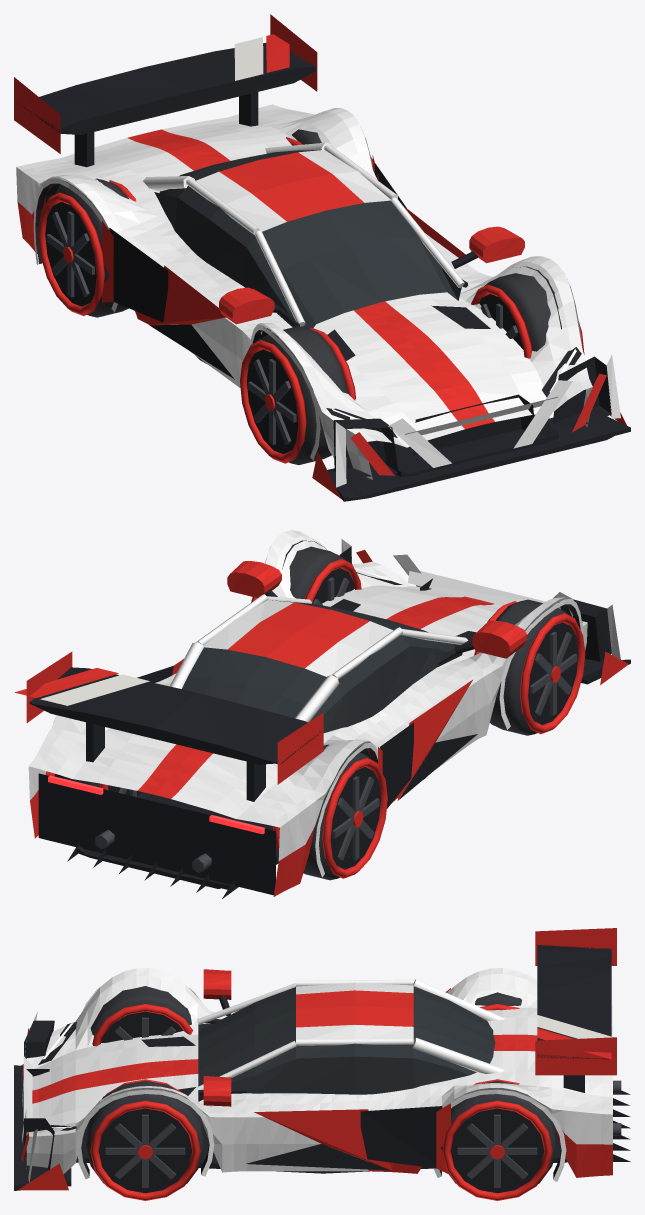
Rendered from wedge.glb.
The picture shows the model from 3 angles, top to bottom: view 1: azimuth 30°, elevation 25°; view 2: azimuth 150°, elevation 25°; view 3: azimuth 270°, elevation 25°; orthographic projection. The views are drawn at different scales.
Parts seen in each view (by area): view 1: white:2, black:2, red:2, glass:2, red:0 (×3), rubber:0 (×3), black:0 (×3), white:0, metal:0 (×2), whiteAccent:2; view 2: white:2, black:2, red:2, glass:2, black:0 (×4), red:0 (×3), rubber:0 (×3), metal:0 (×3), white:0, whiteAccent:2, tail:0; view 3: white:2, red:2, glass:2, black:2, black:0 (×4), red:0 (×3), rubber:0 (×4), white:0, metal:0 (×2), whiteAccent:2.
Part boxes in pixels (<box>): white:2: <box>16,104,620,487</box>; black:2: <box>17,43,630,501</box>; red:2: <box>14,14,626,499</box>; glass:2: <box>154,150,461,328</box>; red:0 (×3): <box>38,180,584,463</box>; rubber:0 (×3): <box>55,178,550,464</box>; black:0 (×3): <box>45,92,477,453</box>; white:0: <box>143,142,464,326</box>; metal:0 (×2): <box>46,211,296,444</box>; whiteAccent:2: <box>234,37,263,80</box>; white:2: <box>28,530,620,877</box>; black:2: <box>29,540,630,898</box>; red:2: <box>14,550,628,896</box>; glass:2: <box>182,600,462,732</box>; black:0 (×4): <box>86,568,578,869</box>; red:0 (×3): <box>251,559,585,878</box>; rubber:0 (×3): <box>279,546,568,880</box>; metal:0 (×3): <box>95,632,577,872</box>; white:0: <box>170,594,468,722</box>; whiteAccent:2: <box>40,674,149,705</box>; tail:0: <box>48,775,265,834</box>; white:2: <box>22,968,612,1182</box>; red:2: <box>17,928,616,1190</box>; glass:2: <box>198,986,495,1101</box>; black:2: <box>14,945,630,1190</box>; black:0 (×4): <box>98,995,584,1193</box>; red:0 (×3): <box>90,1004,552,1200</box>; rubber:0 (×4): <box>86,986,556,1183</box>; white:0: <box>197,979,505,1089</box>; metal:0 (×2): <box>105,1114,537,1187</box>; whiteAccent:2: <box>537,1015,611,1038</box>.
Size of the model in its own units: 2.78 by 1.7 by 5.82.
